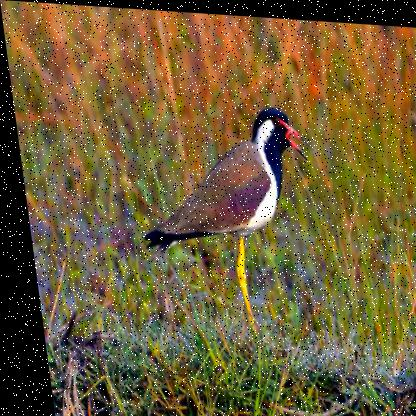Burung: (123, 96, 328, 343)
